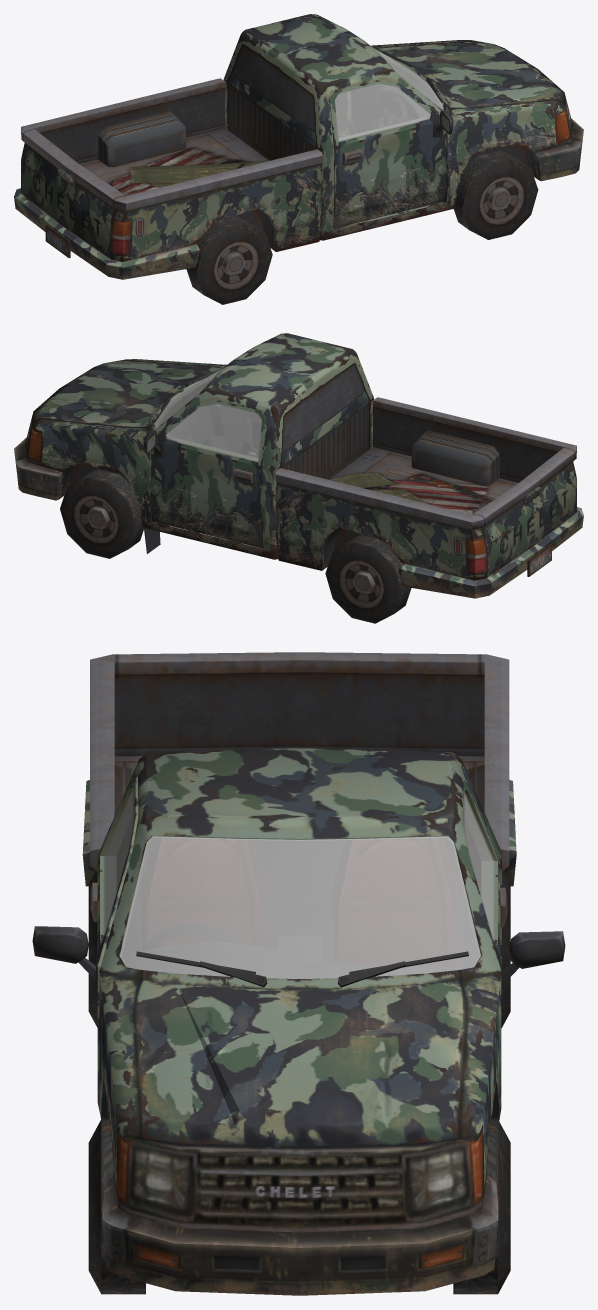
The model's file is PickUp02.FBX.
3 renders of one model, top to bottom at view 1: azimuth 30°, elevation 25°; view 2: azimuth 150°, elevation 25°; view 3: azimuth 270°, elevation 25°, orthographic. The views are drawn at different scales.
Visible parts, largest first — view 1: Object010; view 2: Object010; view 3: Object010.
Boxes of the visible parts, <box> form: Object010: <box>14,14,583,304</box>; Object010: <box>14,333,583,623</box>; Object010: <box>32,652,565,1295</box>.
Size of the model in its own units: 4.88 by 1.73 by 2.25.
